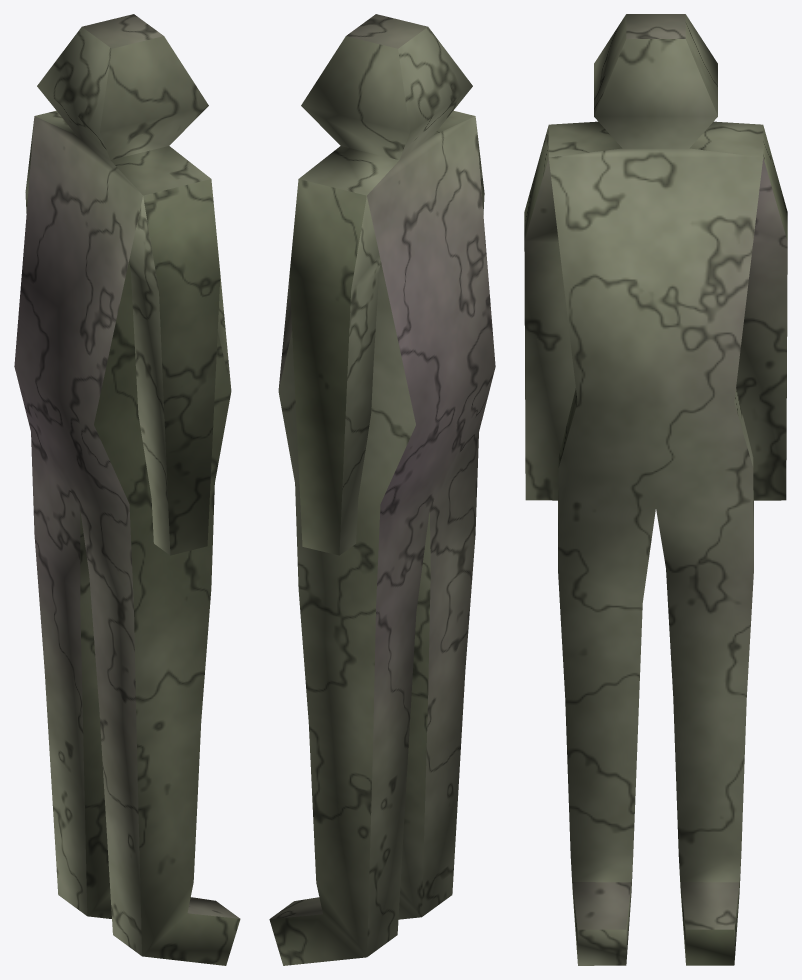
File: Zombie_Body_LOD.obj
The picture shows the model from 3 angles, left to right: view 1: azimuth 30°, elevation 25°; view 2: azimuth 150°, elevation 25°; view 3: azimuth 270°, elevation 25°; orthographic projection.
Bounding box in the file's own units: 0.3092 × 1.86 × 0.4873.
Materials: 1 (1 with a texture image).
